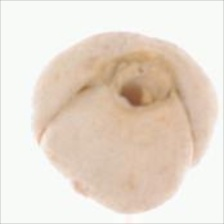L3: (92, 49, 183, 106)
L4: (32, 32, 219, 213)
